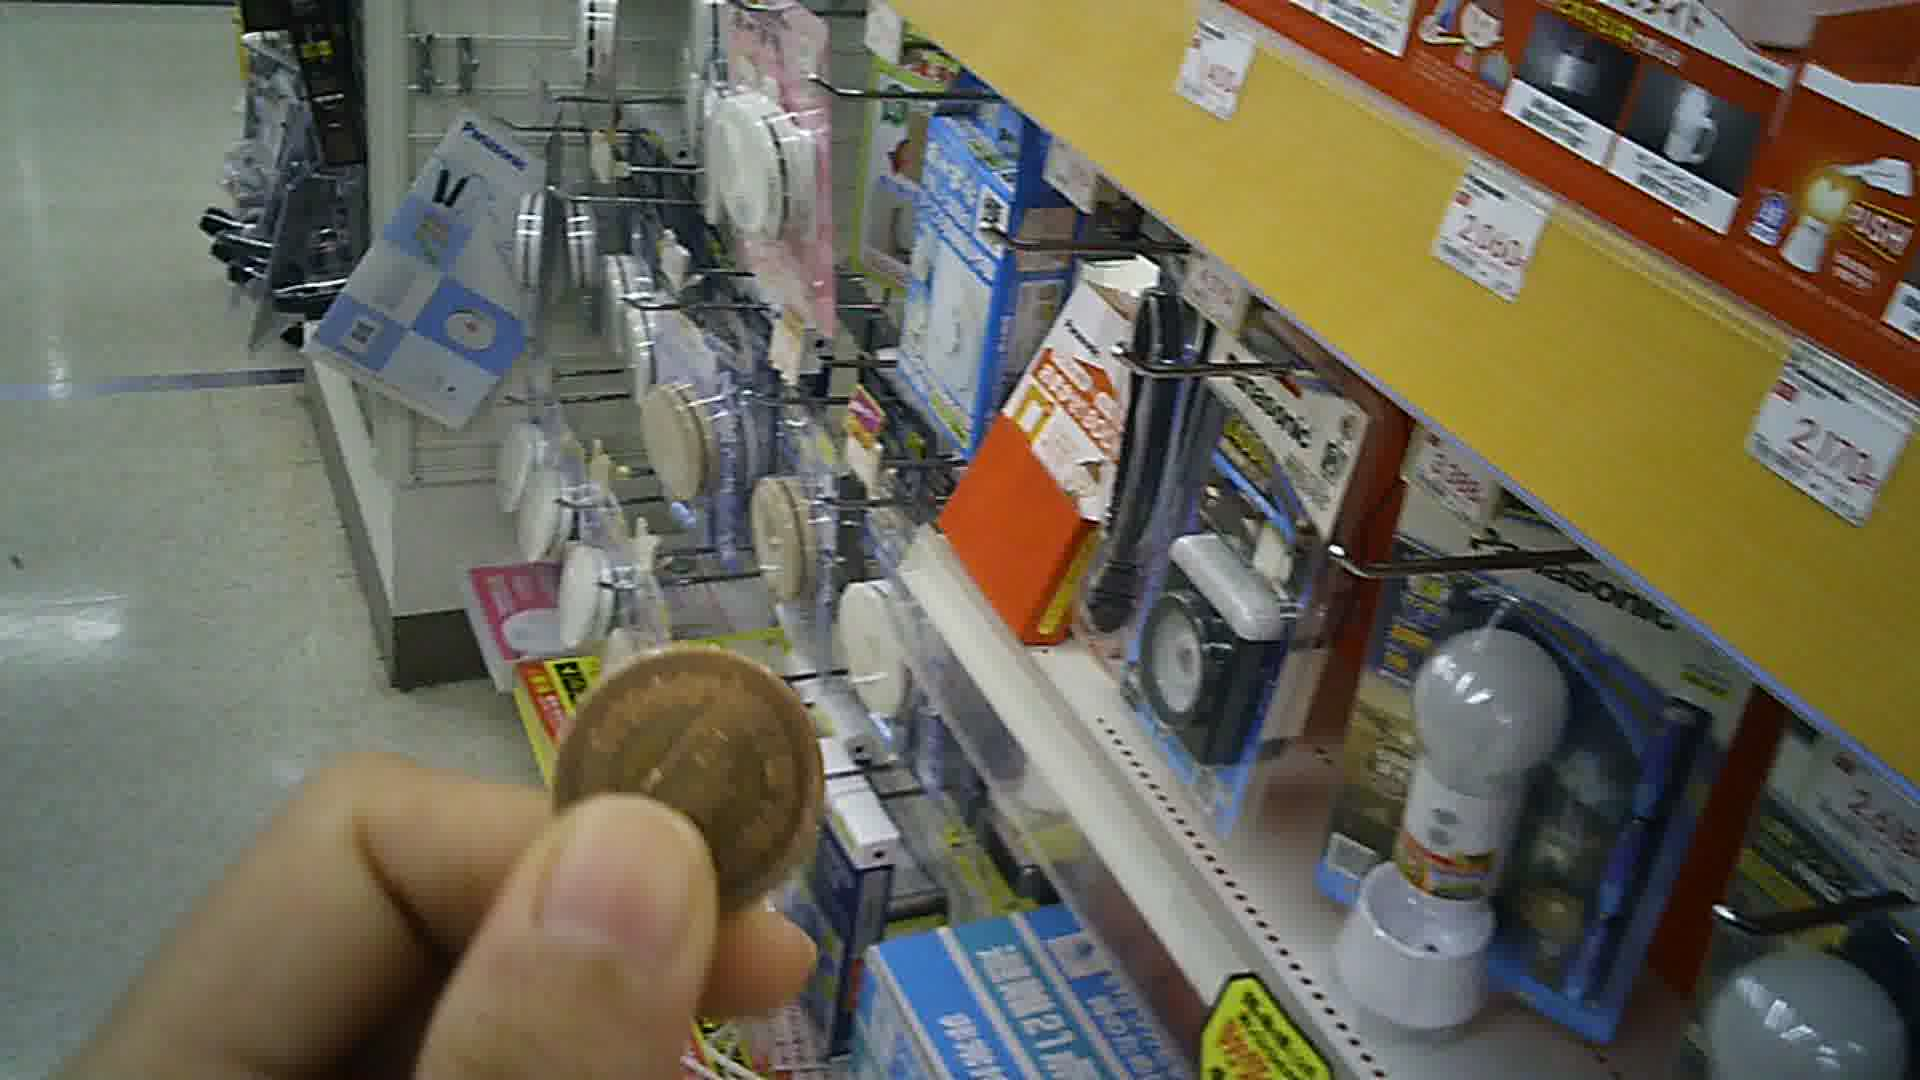10 Yen: (538, 641, 831, 913)
